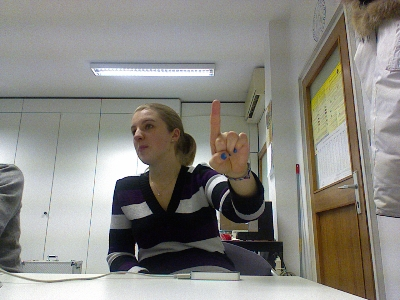食指: (207, 98, 250, 177)
